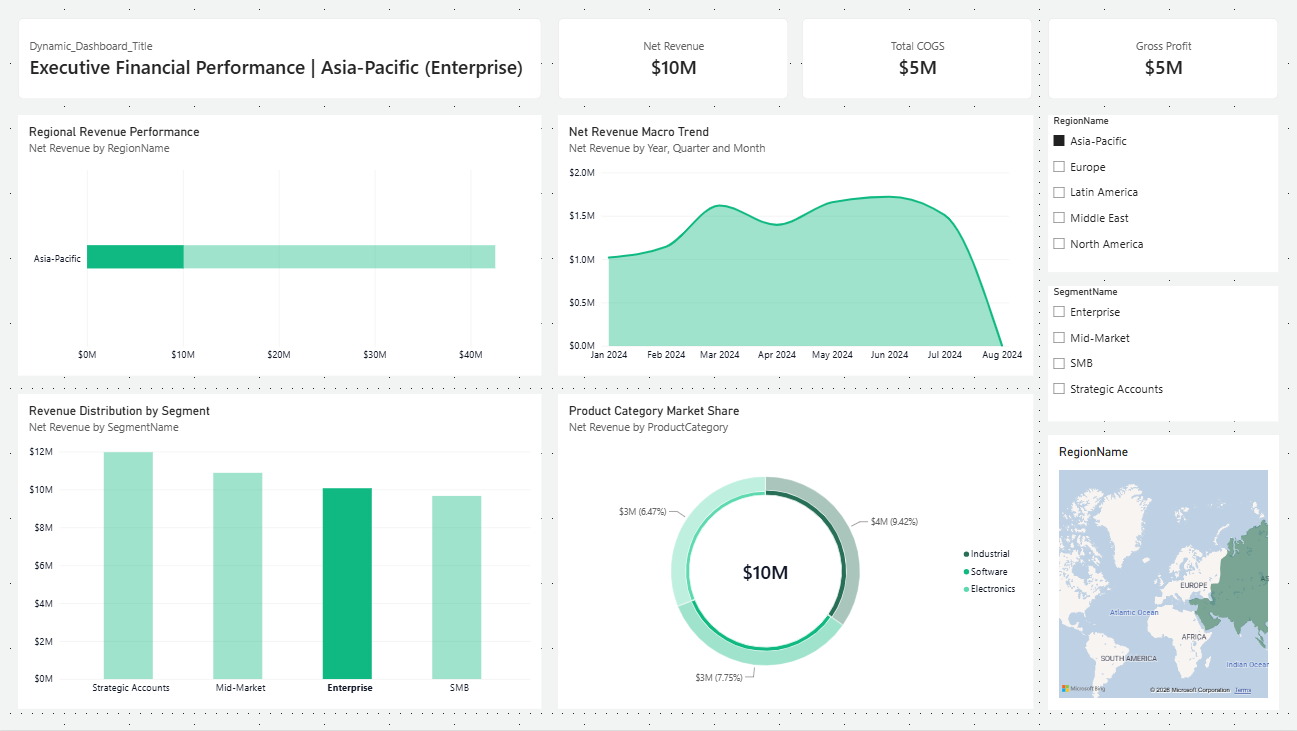

This screenshot's page, from the dashboard's own definition file:
{"tool":"powerbi","page":{"name":"EFP","canvas":[1920,1080],"ordinal":0},"visuals":[{"type":"cardVisual","fields":{"Data":["measures_table.Dynamic_Dashboard_Title"]},"box":[28.3,30,773.3,120],"z":0},{"type":"cardVisual","fields":{"Data":["measures_table.Net Revenue"]},"box":[825,30,340,120],"z":1},{"type":"cardVisual","fields":{"Data":["measures_table.Gross Profit"]},"box":[1550,30,340,120],"z":2},{"type":"cardVisual","fields":{"Data":["measures_table.Total COGS"]},"box":[1186.7,30,340,120],"z":3},{"type":"areaChart","title":"Net Revenue Macro Trend","fields":{"Category":["Fact_Transactions.Date.Variation.Date Hierarchy.Year","Fact_Transactions.Date.Variation.Date Hierarchy.Quarter","Fact_Transactions.Date.Variation.Date Hierarchy.Month"],"Y":["measures_table.Net Revenue"]},"box":[825,173.3,701.7,385],"z":4},{"type":"donutChart","title":"Product Category Market Share","fields":{"Category":["Dim_Products.ProductCategory"],"Y":["measures_table.Net Revenue"]},"box":[825,585,701.7,465],"z":5},{"type":"clusteredBarChart","title":"Regional Revenue Performance","fields":{"Category":["Dim_Regions.RegionName"],"Y":["measures_table.Net Revenue"]},"box":[28.3,173.3,773.3,385],"z":6},{"type":"clusteredColumnChart","title":"Revenue Distribution by Segment","fields":{"Category":["Dim_Segments.SegmentName"],"Y":["measures_table.Net Revenue"]},"box":[28.3,585,773.3,465],"z":7},{"type":"slicer","fields":{"Values":["Dim_Regions.RegionName"]},"box":[1550,173.3,340,231.7],"z":8},{"type":"slicer","fields":{"Values":["Dim_Segments.SegmentName"]},"box":[1550,425,340,200],"z":9},{"type":"filledMap","fields":{"Category":["Dim_Regions.RegionName"]},"box":[1549.3,645.4,341.2,404.7],"z":10}]}

Visuals, with their boxes in screenshot pixels (x1, y1, x2, y2), scaled from the page's 1920x1080 canvas onto the 1297x731 screenshot:
cardVisual - measures_table.Dynamic_Dashboard_Title: box=[19, 20, 541, 102]
cardVisual - measures_table.Net Revenue: box=[557, 20, 787, 102]
cardVisual - measures_table.Gross Profit: box=[1047, 20, 1277, 102]
cardVisual - measures_table.Total COGS: box=[802, 20, 1031, 102]
"Net Revenue Macro Trend" areaChart: box=[557, 117, 1031, 378]
"Product Category Market Share" donutChart: box=[557, 396, 1031, 711]
"Regional Revenue Performance" clusteredBarChart: box=[19, 117, 541, 378]
"Revenue Distribution by Segment" clusteredColumnChart: box=[19, 396, 541, 711]
slicer - Dim_Regions.RegionName: box=[1047, 117, 1277, 274]
slicer - Dim_Segments.SegmentName: box=[1047, 288, 1277, 423]
filledMap - Dim_Regions.RegionName: box=[1047, 437, 1277, 711]
